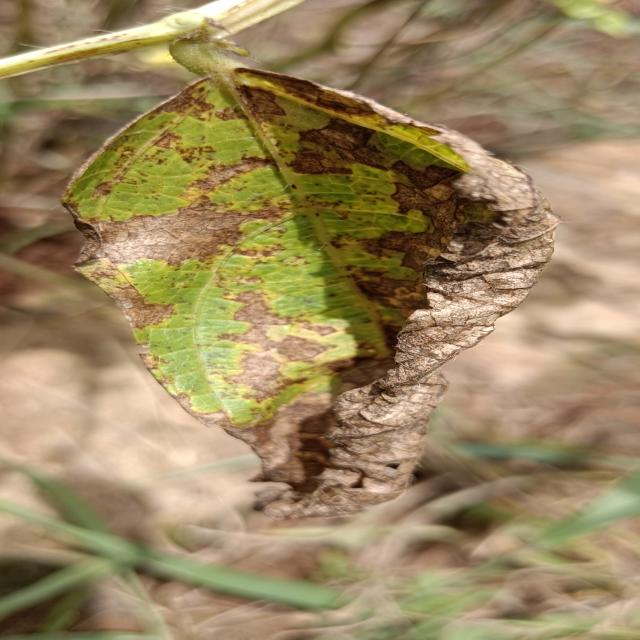Black gram_leaf spot: (64, 49, 562, 533)
